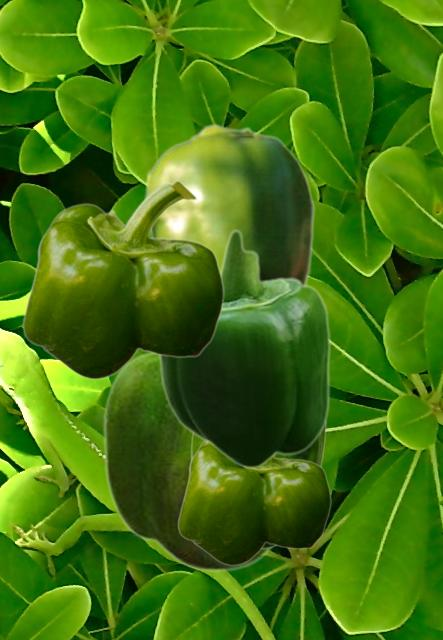bell_pepper: (156, 228, 330, 469), (22, 180, 223, 379), (102, 351, 275, 572), (144, 123, 314, 284), (177, 441, 330, 565), (189, 430, 325, 549)
